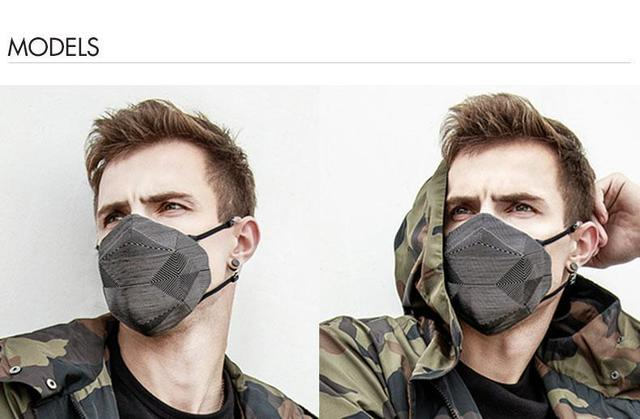mask: (91, 234, 224, 318), (439, 228, 553, 326)
